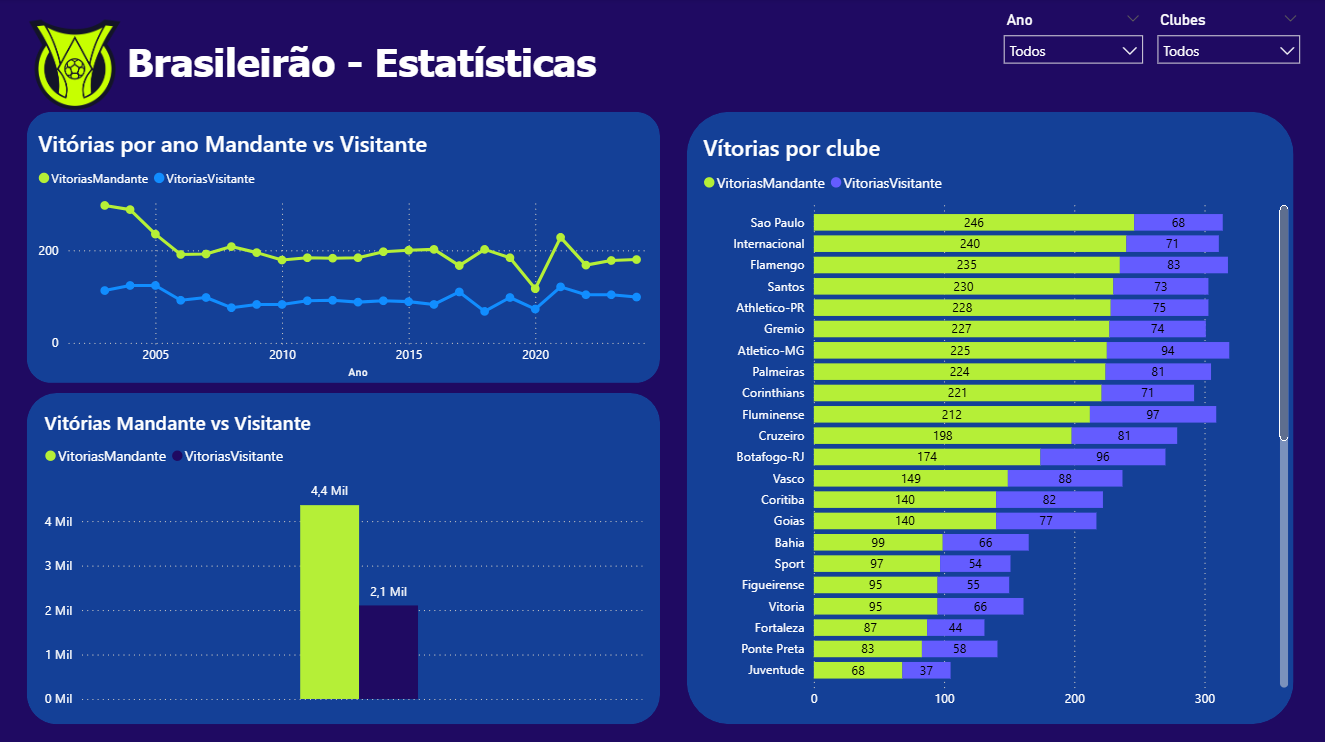

The page's visual inventory and layout, read from the dashboard file:
{"tool":"powerbi","page":{"name":"Estatísticas","canvas":[1280,720],"ordinal":3},"visuals":[{"type":"shape","box":[664.6,110.1,585.8,591.2],"z":0},{"type":"shape","box":[28.2,381.7,611.3,319.7],"z":1000},{"type":"shape","box":[28.2,109.9,611.3,262],"z":2000},{"type":"image","box":[29,4.8,90.5,120.6],"z":3000},{"type":"textbox","box":[119.6,34,520.5,59.8],"z":4000},{"type":"slicer","fields":{"Values":["DimClube.clube"]},"box":[1108.7,7.2,158,74.8],"z":5000},{"type":"slicer","fields":{"Values":["DimData.Ano"]},"box":[960.3,7.2,154.4,61.5],"z":6000},{"type":"clusteredColumnChart","title":"Vitórias Mandante vs Visitante","fields":{"Y":["Medidas.VitoriasMandante","Medidas.VitoriasVisitante"]},"box":[39.4,396.9,587.1,293.6],"z":7000},{"type":"lineChart","title":"Vitórias por ano Mandante vs Visitante","fields":{"Category":["DimData.Ano"],"Y":["Medidas.VitoriasMandante","Medidas.VitoriasVisitante"]},"box":[34,125,600.7,247.4],"z":8000},{"type":"barChart","title":"Vítorias por clube","fields":{"Category":["DimClube.clube"],"Y":["Medidas.VitoriasMandante","Medidas.VitoriasVisitante"]},"box":[675.5,129.1,574.9,565.4],"z":9000}]}

Visuals, with their boxes in screenshot pixels (x1, y1, x2, y2), scaled from the page's 1280x720 canvas onto the 1325x742 screenshot:
shape: region(688, 113, 1294, 723)
shape: region(29, 393, 662, 723)
shape: region(29, 113, 662, 383)
image: region(30, 5, 124, 129)
textbox: region(124, 35, 663, 97)
slicer - DimClube.clube: region(1148, 7, 1311, 85)
slicer - DimData.Ano: region(994, 7, 1154, 71)
"Vitórias Mandante vs Visitante" clusteredColumnChart: region(41, 409, 649, 712)
"Vitórias por ano Mandante vs Visitante" lineChart: region(35, 129, 657, 384)
"Vítorias por clube" barChart: region(699, 133, 1294, 716)
